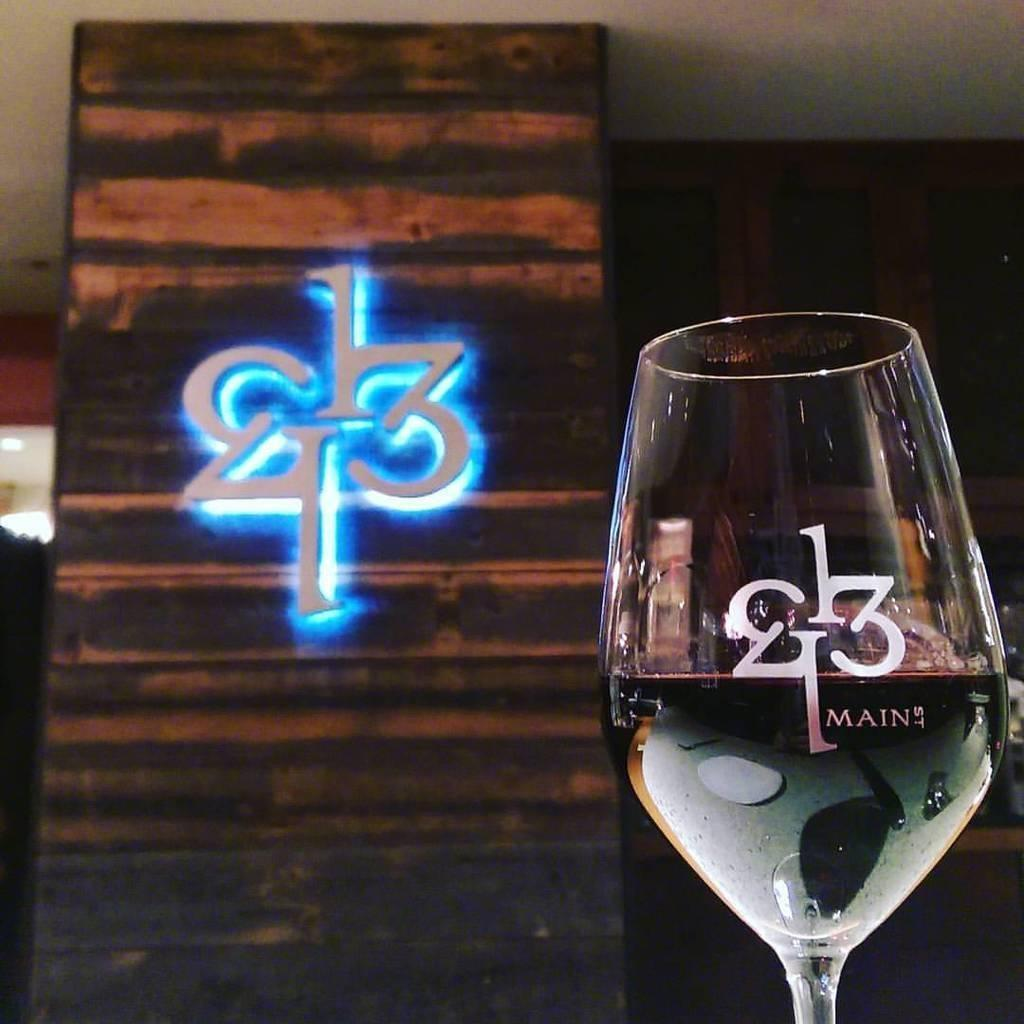glass-wine: (596, 312, 1008, 1023)
